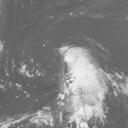cyclone: (57, 44, 104, 93)
